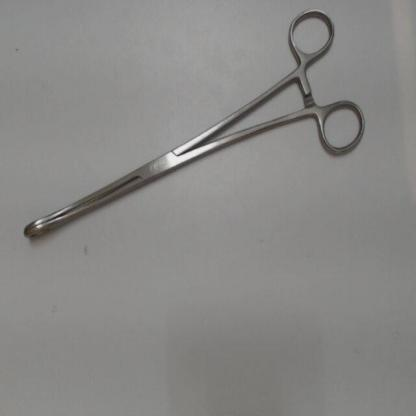Sponge Forceps: (14, 3, 371, 253)
